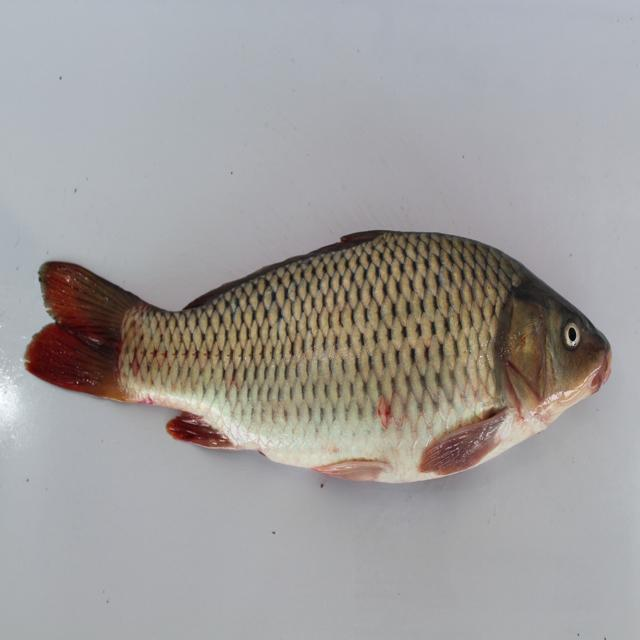CommonCarp: (21, 218, 610, 497)
